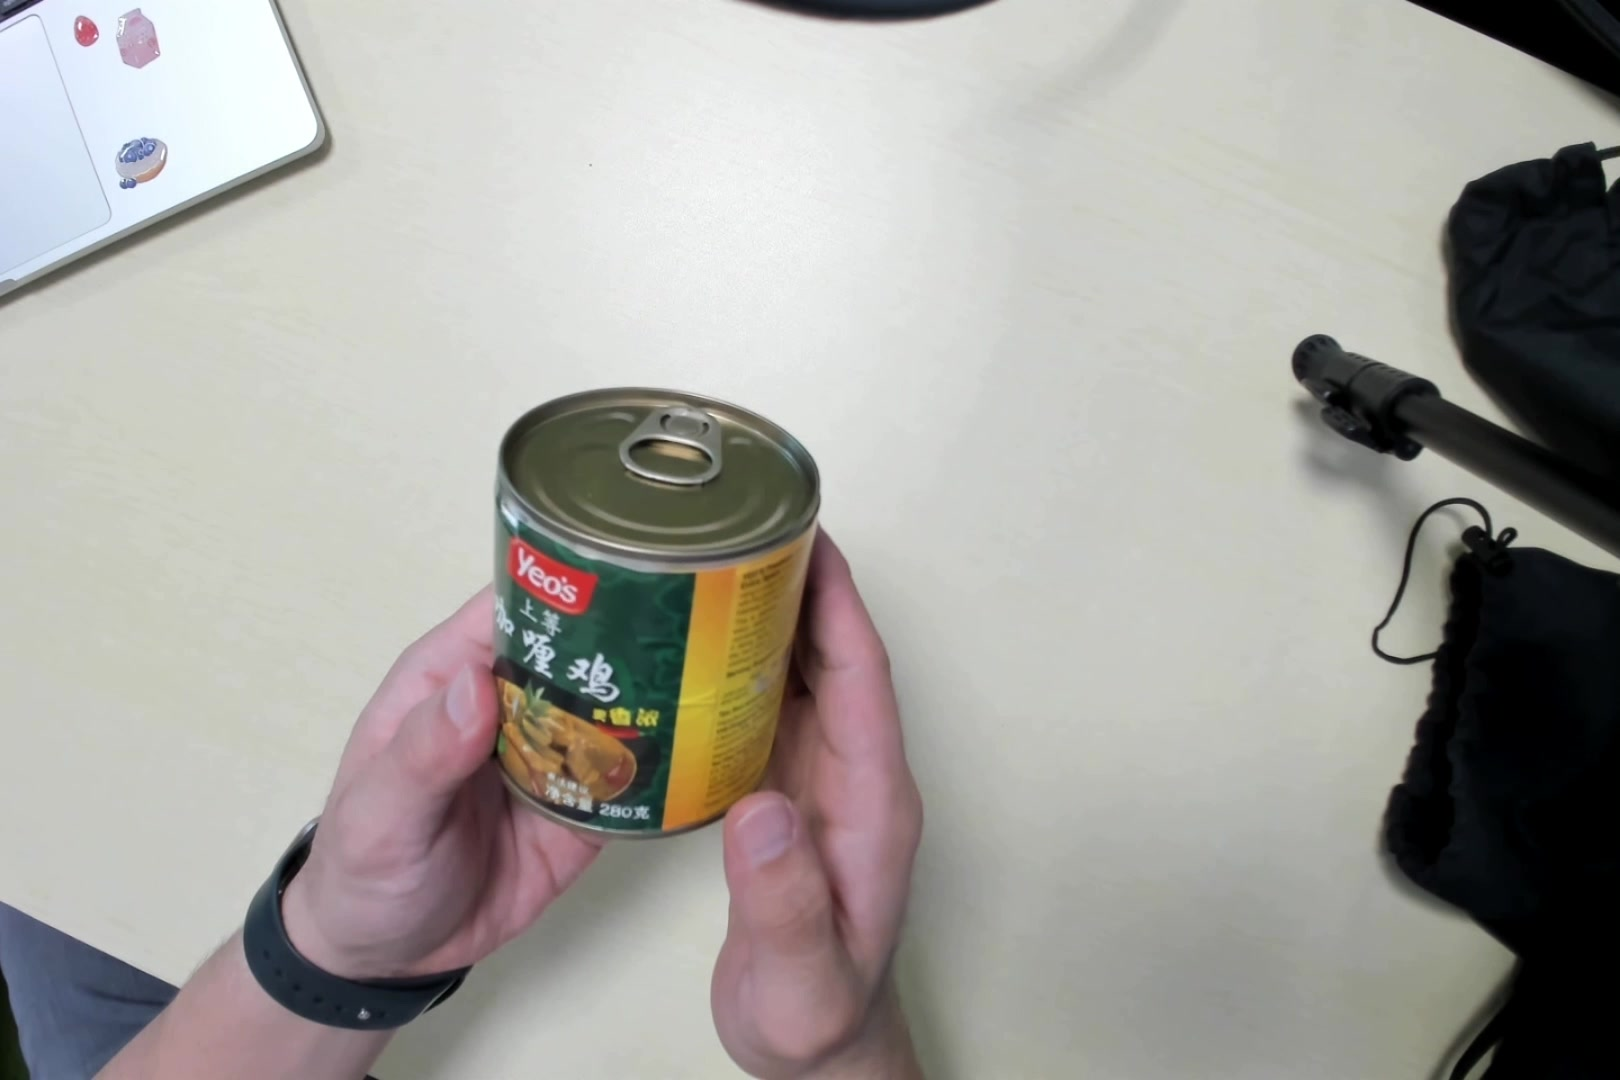CannedChicken_100-199g_Halal_NonHealthy: (487, 391, 812, 834)
